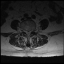CCS_normal: (27, 30, 29, 37)
LFS_stenosis: (31, 28, 32, 34)
LLS_normal: (29, 30, 31, 35)
RFS_normal: (24, 28, 26, 34)
RLS_normal: (26, 29, 27, 35)
